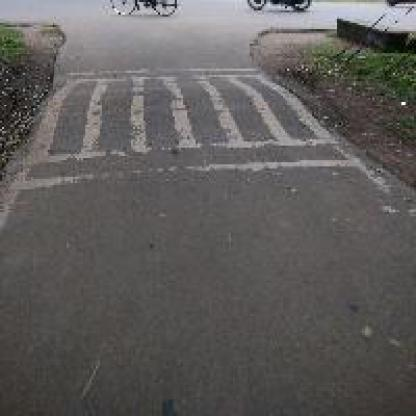Speed Bump: (8, 64, 360, 192)
